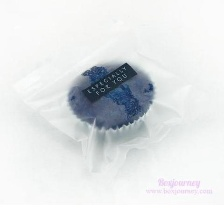snack: (4, 25, 221, 189)
